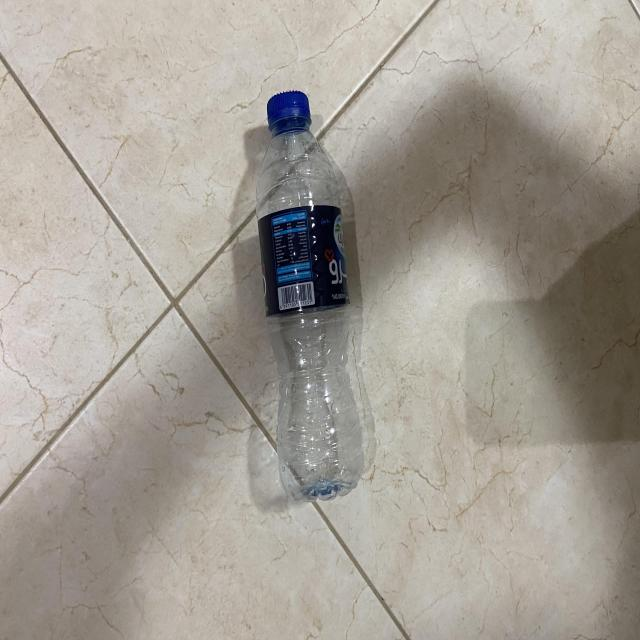plastic: (254, 86, 369, 500)
